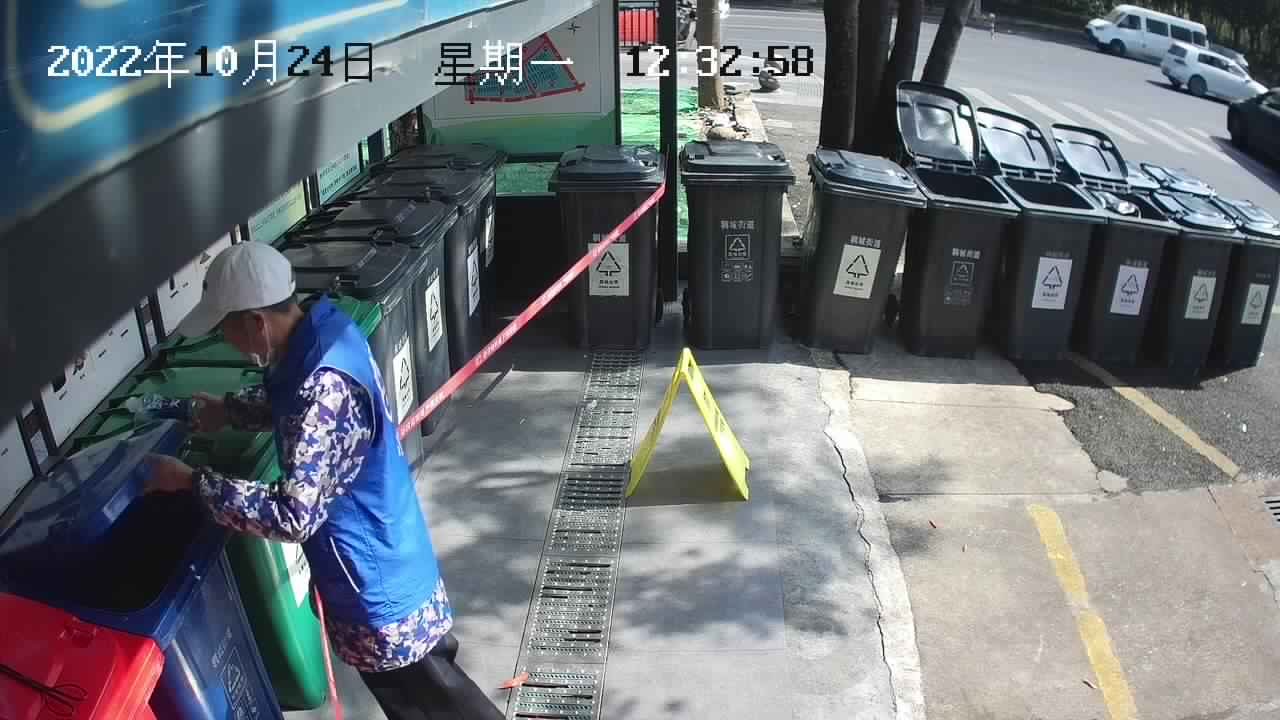worker: (130, 236, 515, 720)
